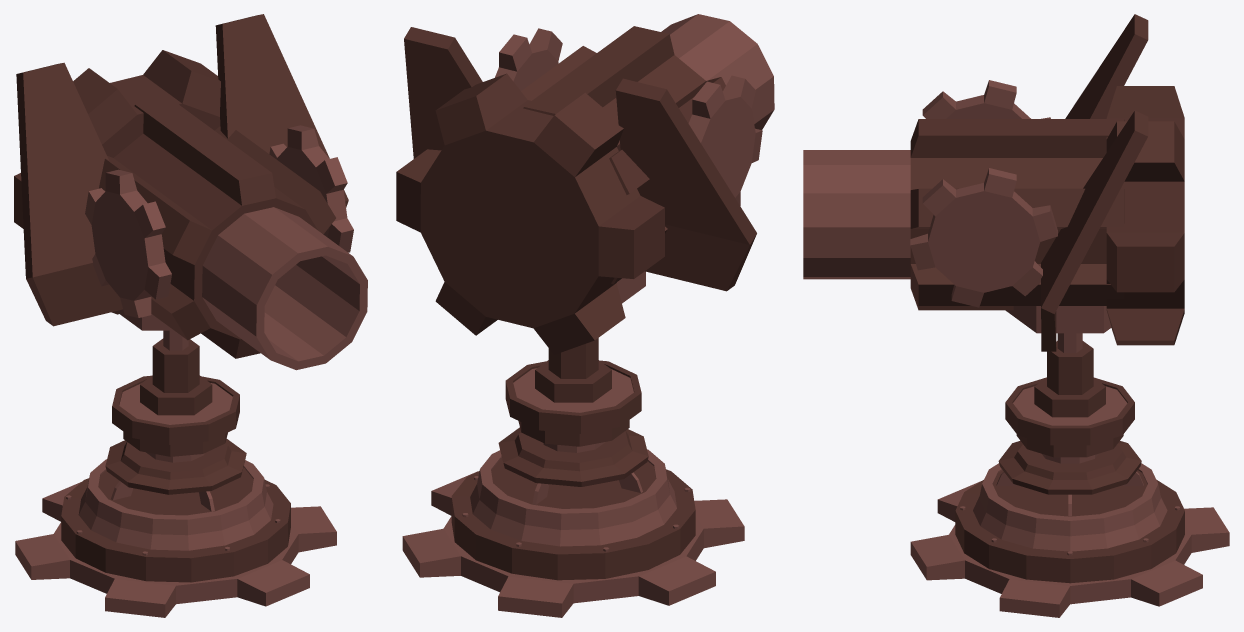
Rendered from cannon_2.glb.
3 views of the same model, side by side, from view 1: azimuth 30°, elevation 25°; view 2: azimuth 150°, elevation 25°; view 3: azimuth 270°, elevation 25° (orthographic). The views are drawn at different scales.
Visible parts, largest first — view 1: _MeshInstance3D_137, _MeshInstance3D_136, _MeshInstance3D_138; view 2: _MeshInstance3D_137, _MeshInstance3D_136, _MeshInstance3D_138; view 3: _MeshInstance3D_137, _MeshInstance3D_136, _MeshInstance3D_138.
Boxes of the visible parts, box(x1,y1,x2,y2) form: _MeshInstance3D_137: box(14, 14, 367, 370); _MeshInstance3D_136: box(15, 375, 336, 617); _MeshInstance3D_138: box(140, 330, 212, 415); _MeshInstance3D_137: box(396, 14, 774, 354); _MeshInstance3D_136: box(402, 360, 744, 617); _MeshInstance3D_138: box(535, 338, 611, 402); _MeshInstance3D_137: box(803, 14, 1184, 351); _MeshInstance3D_136: box(910, 377, 1229, 617); _MeshInstance3D_138: box(1034, 333, 1105, 417).
Bounding box in the file's own units: 1.56 × 2.29 × 1.84.
